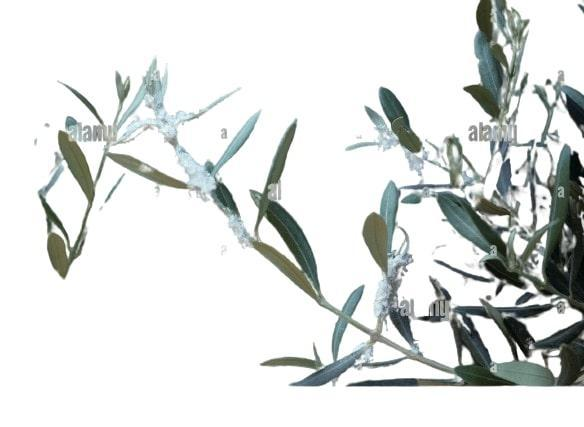Psyllid: (140, 89, 260, 244), (364, 246, 422, 322), (370, 124, 430, 180), (352, 339, 380, 369)
